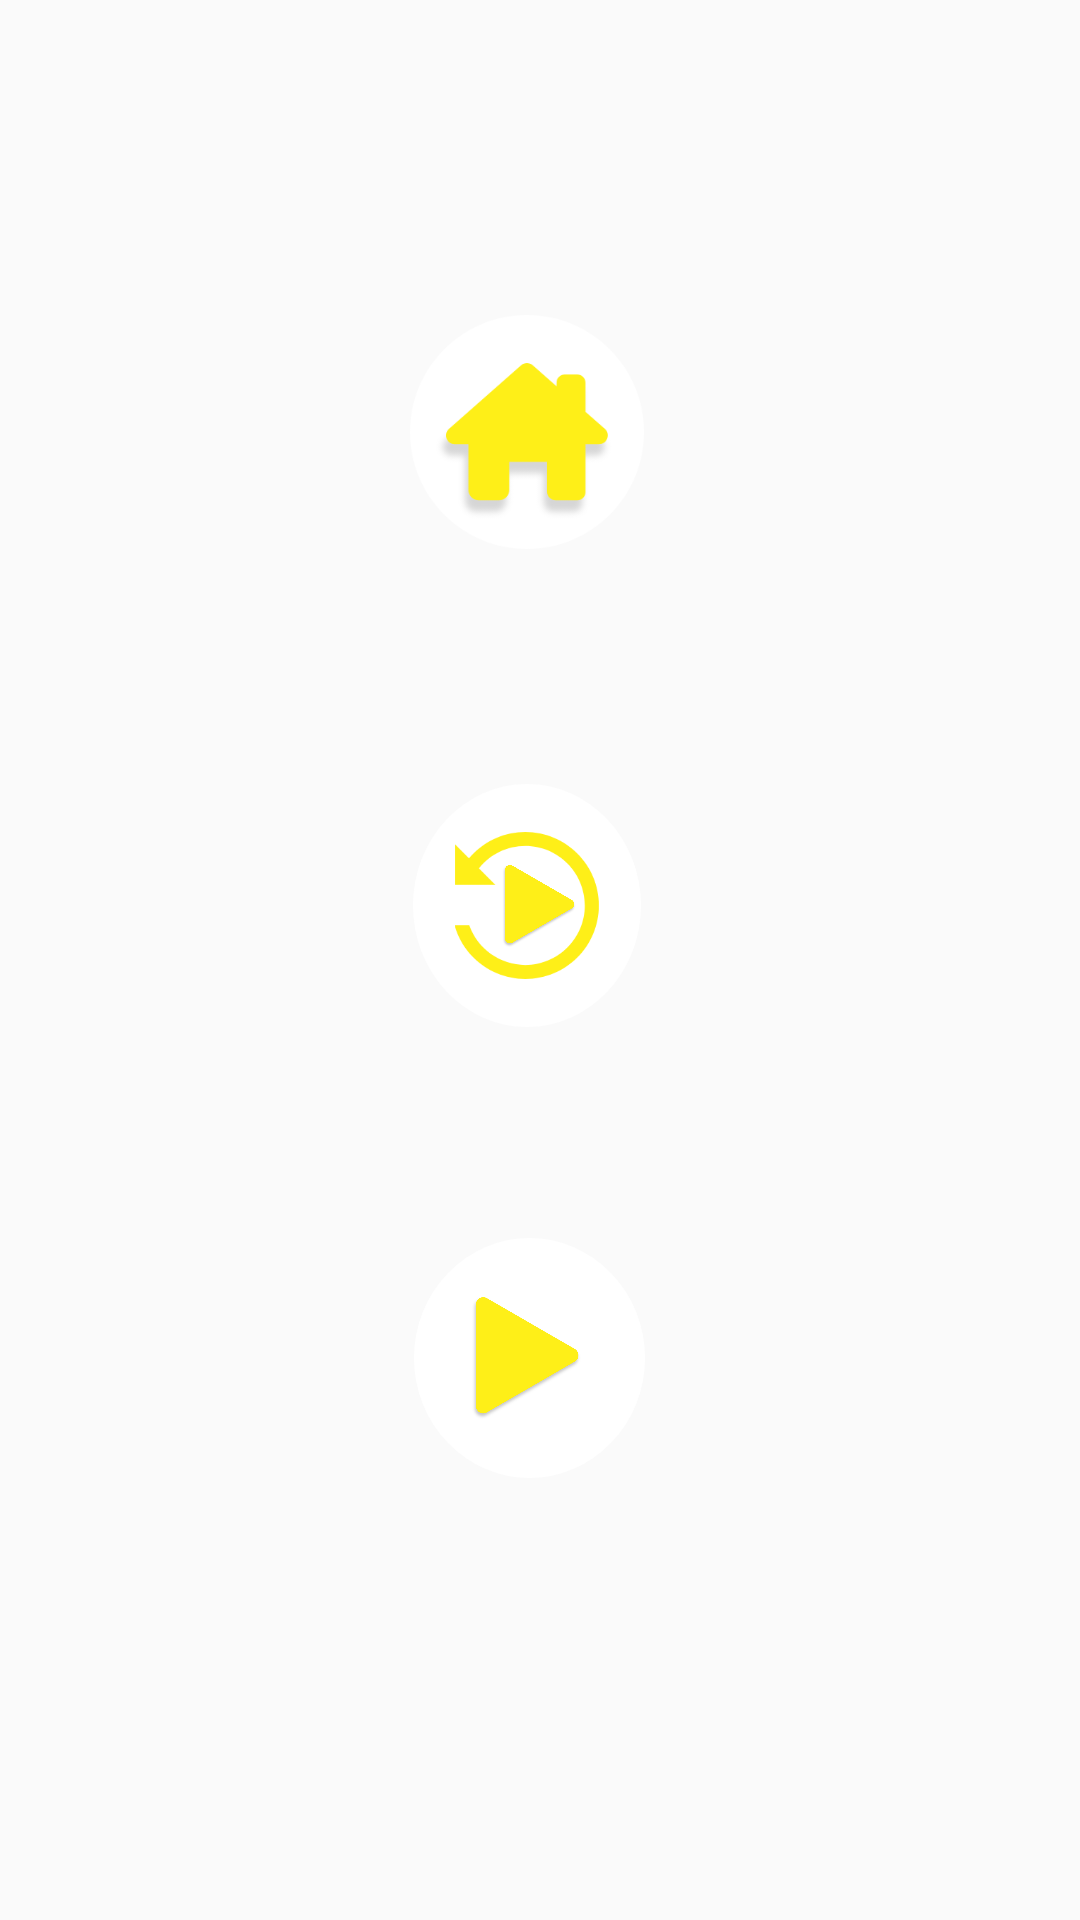

Locate icon controls on the screen. Image size 1080x1920, boxes as bbox(x1, y1, x2, y2).
home: bbox(445, 363, 608, 510)
